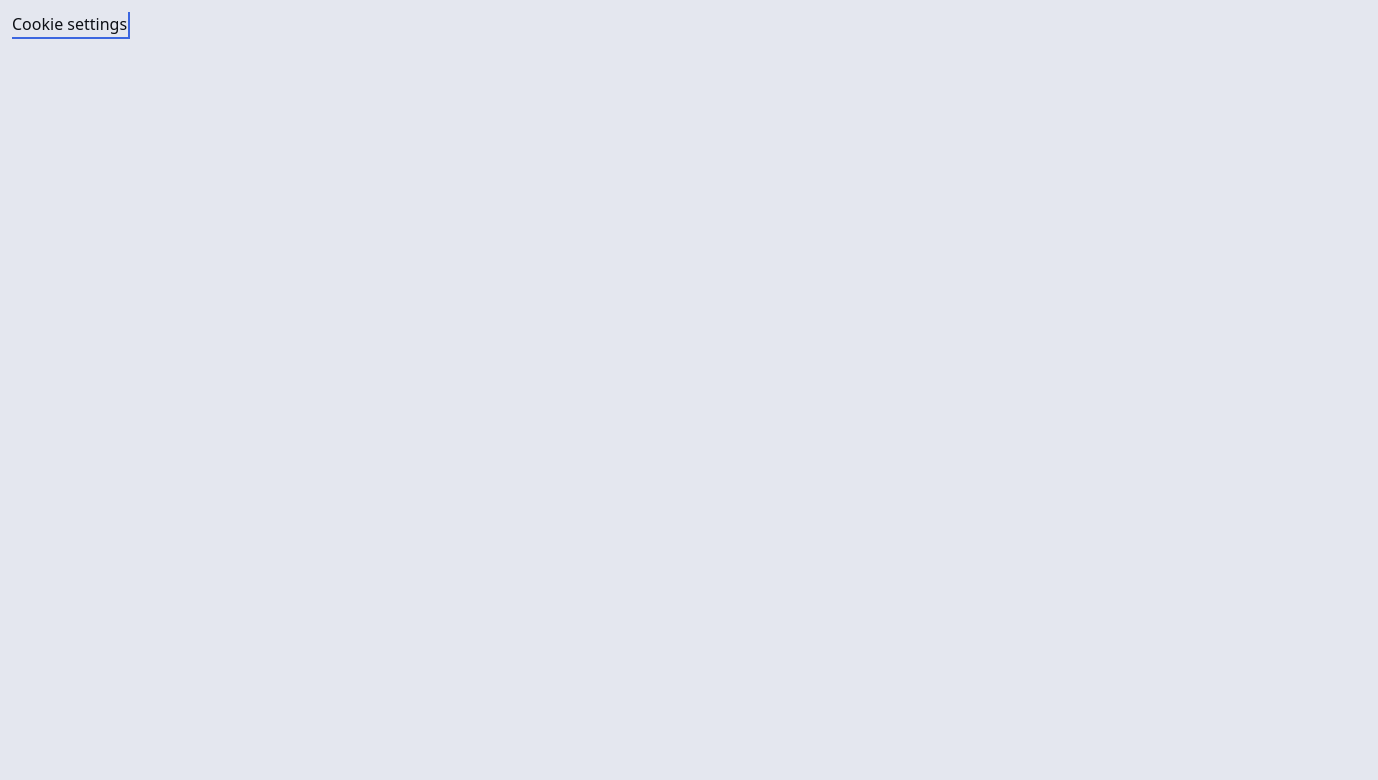
Test case: CookieNotice › focuses an explicitly opened choice and returns to Cookie settings after Decline
Press Enter
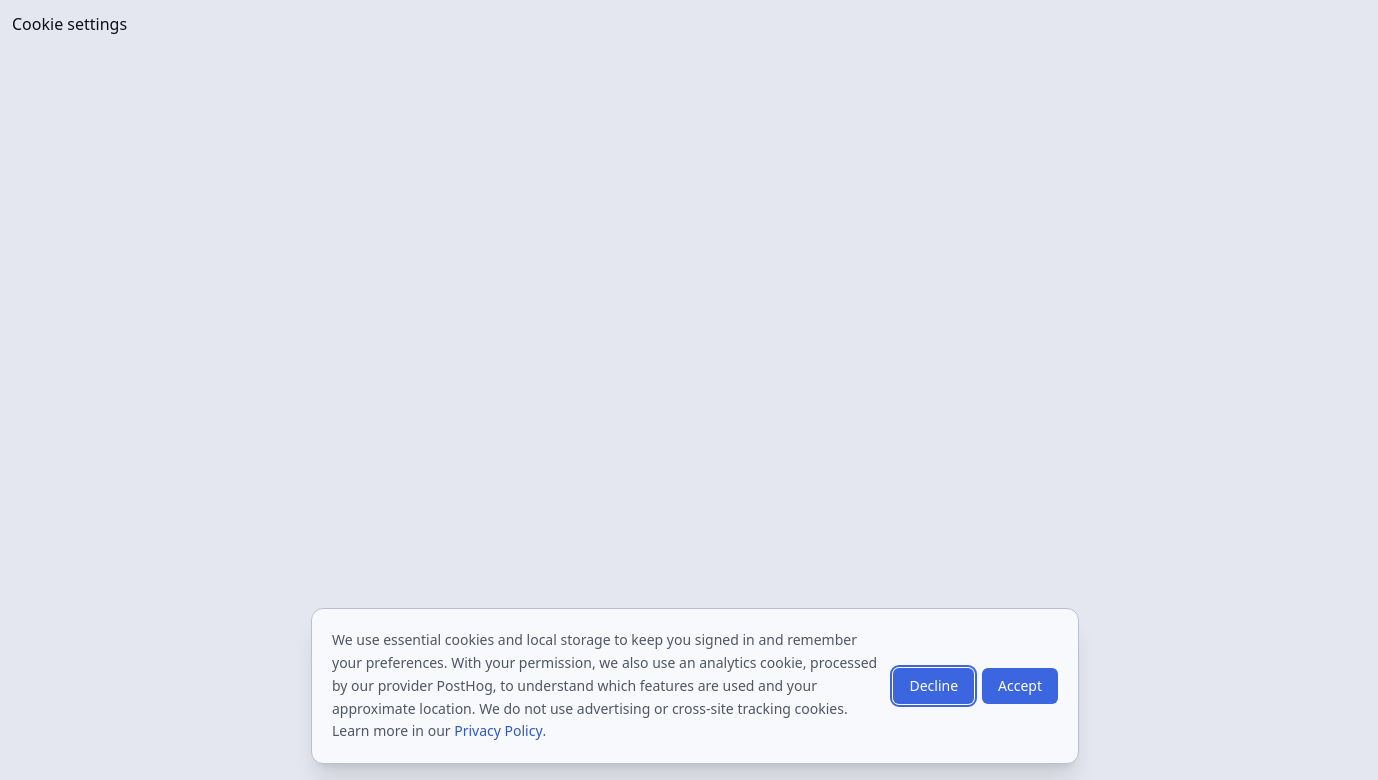
Click the button "Decline". click: (934, 686)
box: [893,668,974,704]
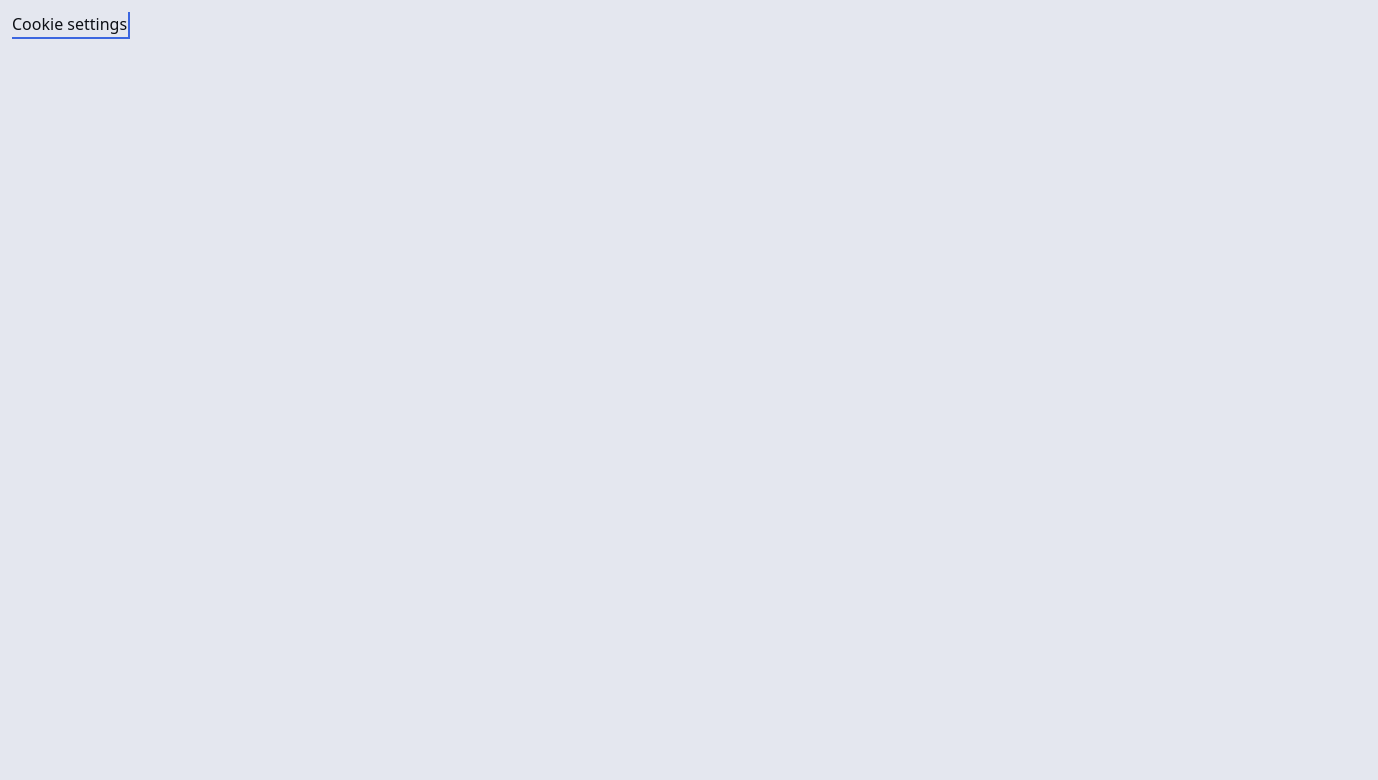
Expected: the button "Decline" is gone
